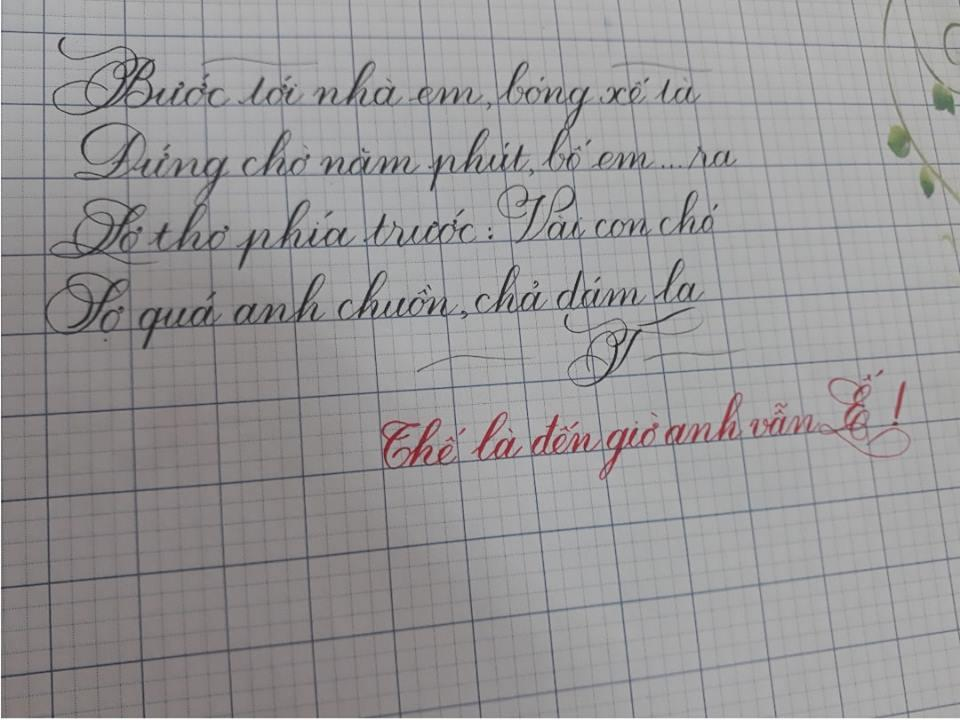text: (42, 252, 709, 359), (376, 362, 912, 489), (47, 33, 703, 133), (46, 179, 721, 276), (70, 119, 739, 214), (556, 303, 713, 396)
